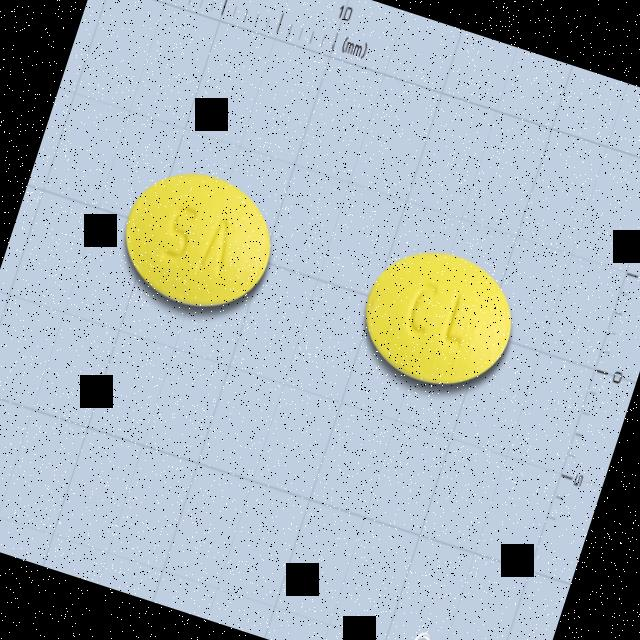CLARIUM: (104, 151, 292, 331)
